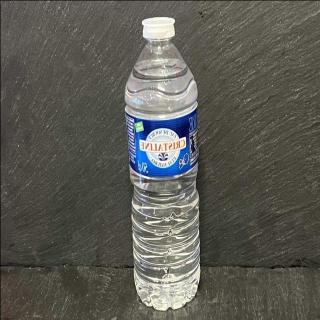Anorganik: (124, 15, 199, 309)
